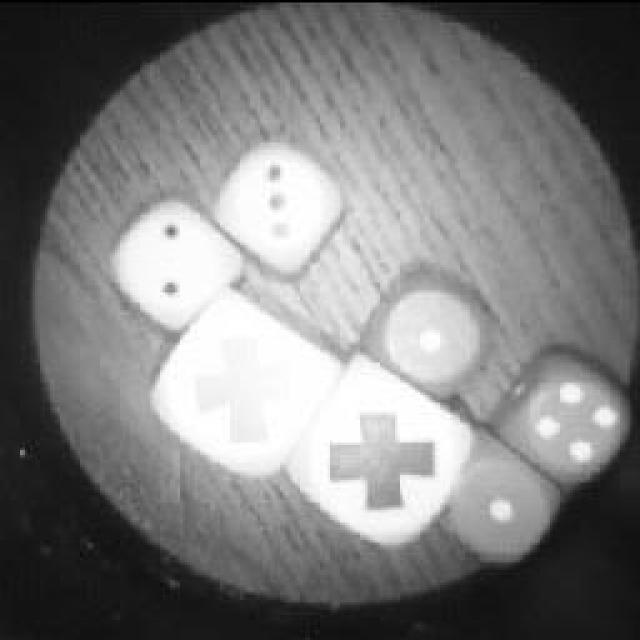dice_1: (355, 262, 507, 398), (430, 438, 565, 572)
dice_2: (100, 190, 250, 328)
dice_3: (207, 132, 355, 288)
dice_4: (500, 348, 638, 480)
